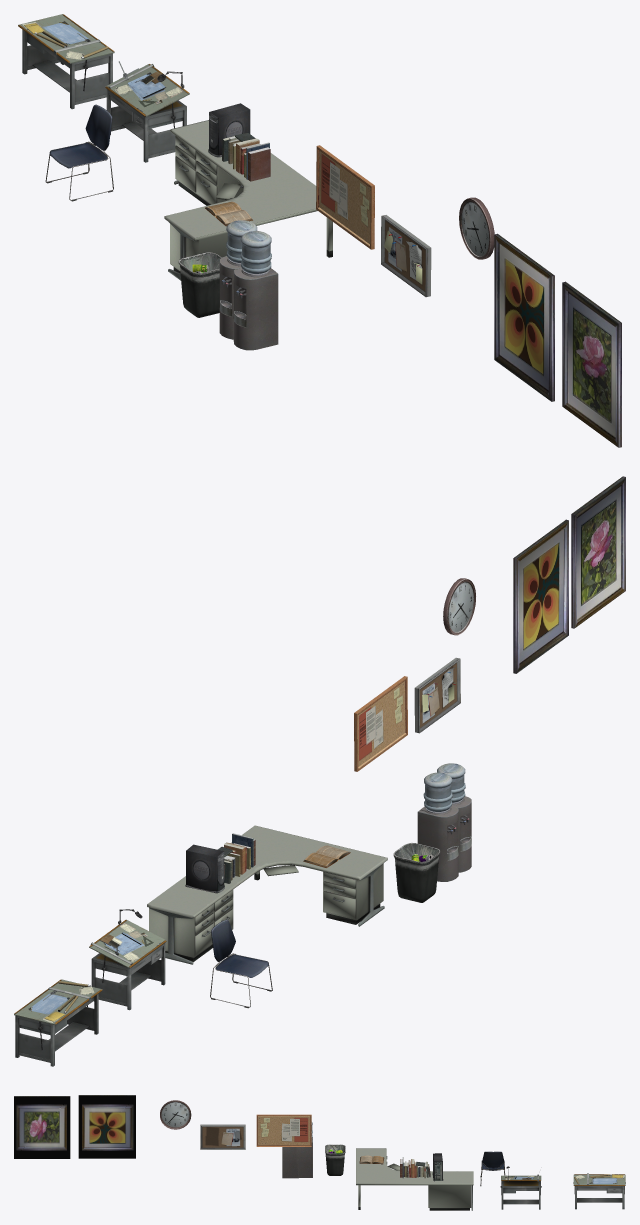
File: office_pack_models.glb
3 renders of one model, top to bottom at view 1: azimuth 30°, elevation 25°; view 2: azimuth 150°, elevation 25°; view 3: azimuth 270°, elevation 25°, orthographic. The views are drawn at different scales.
Visible parts, largest first — view 1: Object_13, Object_8, Object_6, Object_12, Object_14, Object_9, Object_3, Object_10, Object_2, Object_5, Object_4, Object_11 (+1 smaller); view 2: Object_8, Object_13, Object_6, Object_12, Object_14, Object_9, Object_3, Object_10, Object_2, Object_11, Object_4, Object_5; view 3: Object_6, Object_12, Object_8, Object_13, Object_9, Object_3, Object_14, Object_4, Object_10, Object_5, Object_2, Object_11 (+1 smaller).
Boxes of the visible parts, left/top/right/bottom form: Object_13: left=18, top=14, right=189, bottom=162; Object_8: left=164, top=120, right=332, bottom=280; Object_6: left=494, top=233, right=554, bottom=401; Object_12: left=562, top=281, right=621, bottom=447; Object_14: left=219, top=220, right=278, bottom=350; Object_9: left=316, top=145, right=374, bottom=249; Object_3: left=381, top=215, right=431, bottom=297; Object_10: left=178, top=252, right=221, bottom=317; Object_2: left=45, top=104, right=113, bottom=201; Object_5: left=222, top=133, right=270, bottom=181; Object_4: left=459, top=197, right=494, bottom=259; Object_11: left=208, top=103, right=250, bottom=157; Object_8: left=147, top=825, right=387, bottom=964; Object_13: left=14, top=909, right=166, bottom=1066; Object_6: left=513, top=519, right=568, bottom=673; Object_12: left=571, top=476, right=625, bottom=628; Object_14: left=417, top=763, right=471, bottom=881; Object_9: left=354, top=676, right=407, bottom=771; Object_3: left=414, top=657, right=460, bottom=733; Object_10: left=393, top=843, right=440, bottom=902; Object_2: left=210, top=919, right=272, bottom=1008; Object_11: left=185, top=844, right=224, bottom=893; Object_4: left=443, top=578, right=475, bottom=635; Object_5: left=218, top=833, right=255, bottom=883; Object_6: left=78, top=1095, right=135, bottom=1158; Object_12: left=14, top=1096, right=70, bottom=1158; Object_8: left=356, top=1148, right=473, bottom=1210; Object_13: left=500, top=1166, right=625, bottom=1209; Object_9: left=256, top=1114, right=311, bottom=1146; Object_3: left=200, top=1124, right=245, bottom=1149; Object_14: left=282, top=1122, right=312, bottom=1178; Object_4: left=160, top=1100, right=191, bottom=1129; Object_10: left=325, top=1144, right=345, bottom=1175; Object_5: left=400, top=1157, right=430, bottom=1178; Object_2: left=480, top=1151, right=505, bottom=1186; Object_11: left=432, top=1153, right=443, bottom=1181.
Bounding box in the file's own units: 10.59 × 11.57 × 64.11.
13 materials, 13 textured.
